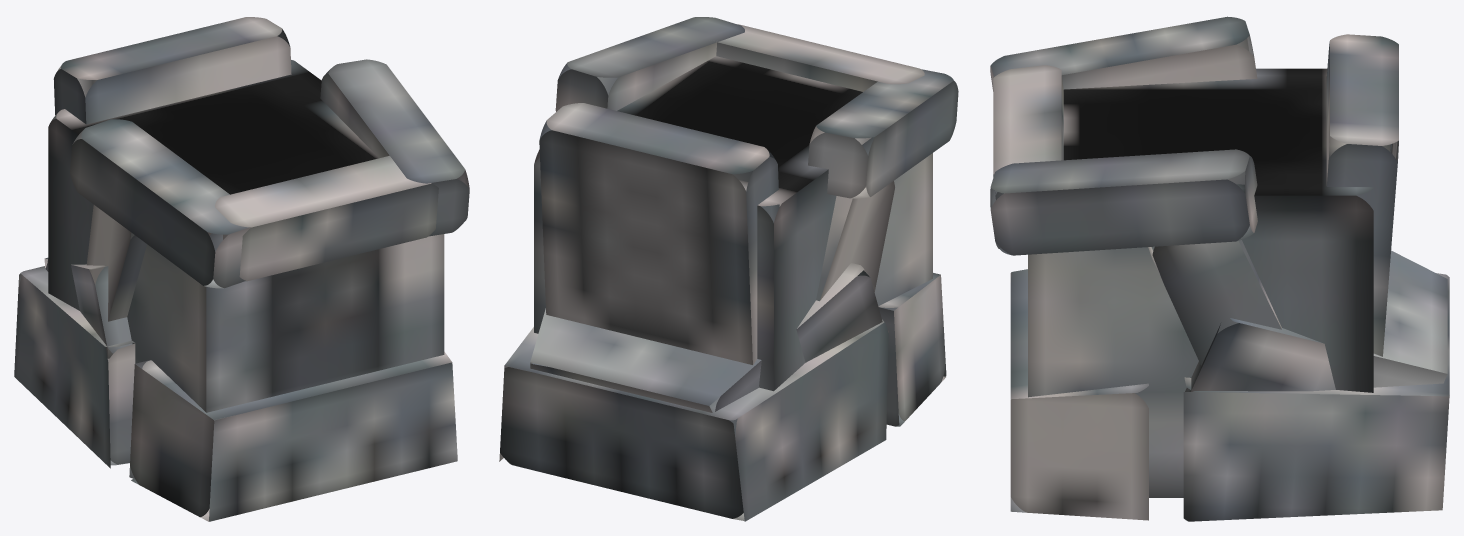
File: generic_urban_b_r.obj
3 renders of one model, left to right at view 1: azimuth 30°, elevation 25°; view 2: azimuth 150°, elevation 25°; view 3: azimuth 270°, elevation 25°, orthographic. The views are drawn at different scales.
Visible parts, largest first — view 1: cube; view 2: cube; view 3: cube.
Part boxes in pixels (left/top/right/bottom): cube: left=14, top=17, right=469, bottom=521; cube: left=499, top=17, right=958, bottom=521; cube: left=990, top=16, right=1449, bottom=521.
Size of the model in its own units: 0.3519 by 0.3565 by 0.4171.
